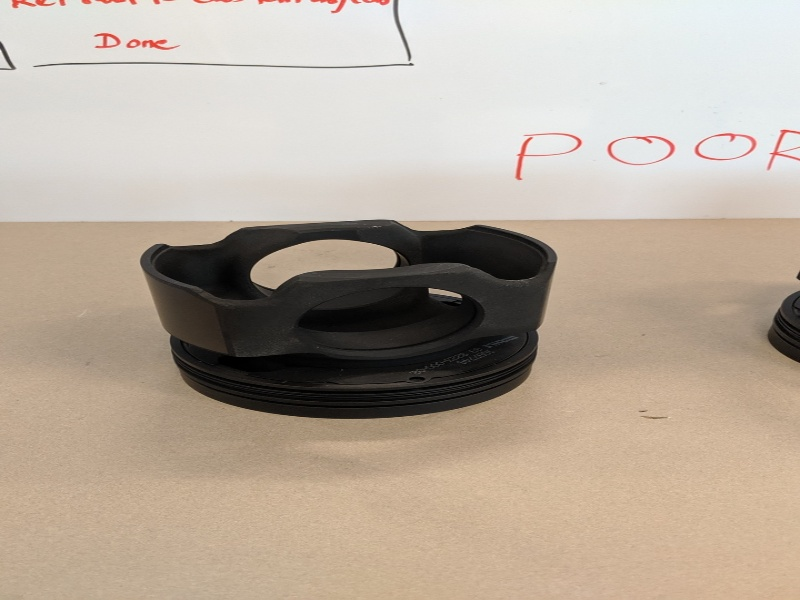piston: (128, 216, 565, 424)
